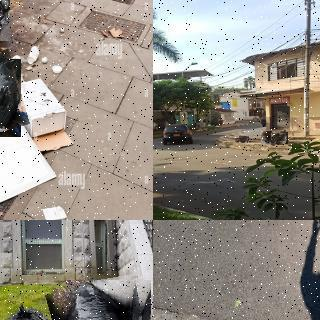Garbage: (59, 277, 153, 320), (0, 54, 26, 141), (270, 131, 289, 145), (261, 131, 275, 145), (239, 136, 249, 143), (235, 136, 242, 142)
